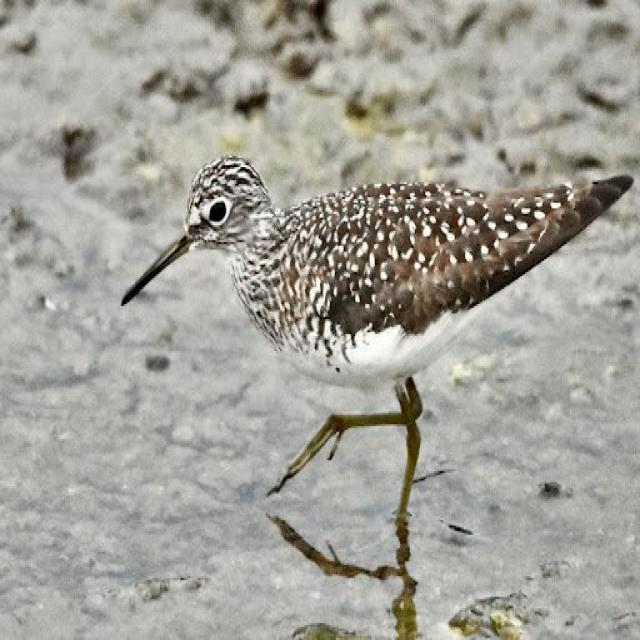Sandpiper: (111, 143, 628, 511)
